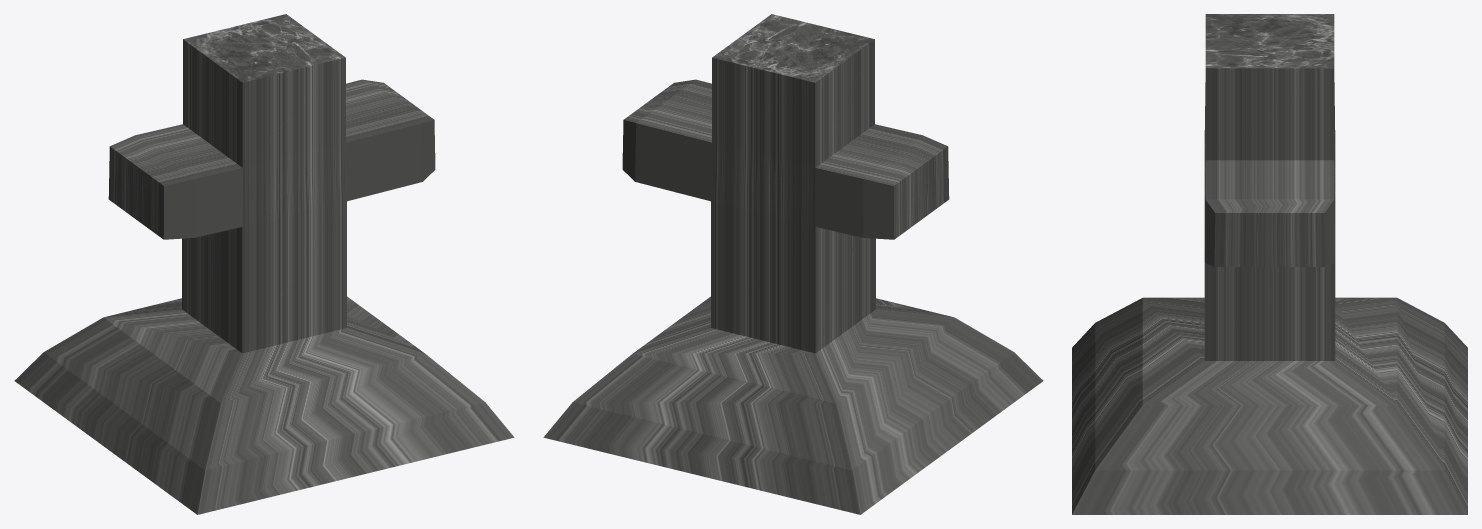
Rendered from stone2 1.fbx.
3 renders of one model, left to right at view 1: azimuth 30°, elevation 25°; view 2: azimuth 150°, elevation 25°; view 3: azimuth 270°, elevation 25°, orthographic. The views are drawn at different scales.
Parts seen in each view (by area): view 1: Plane; view 2: Plane; view 3: Plane.
Boxes of the visible parts, x1,y1,x2,y2 form: Plane: (14,14,514,514); Plane: (543,14,1043,514); Plane: (1072,14,1467,514).
Bounding box in the file's own units: 299 × 325 × 299.
